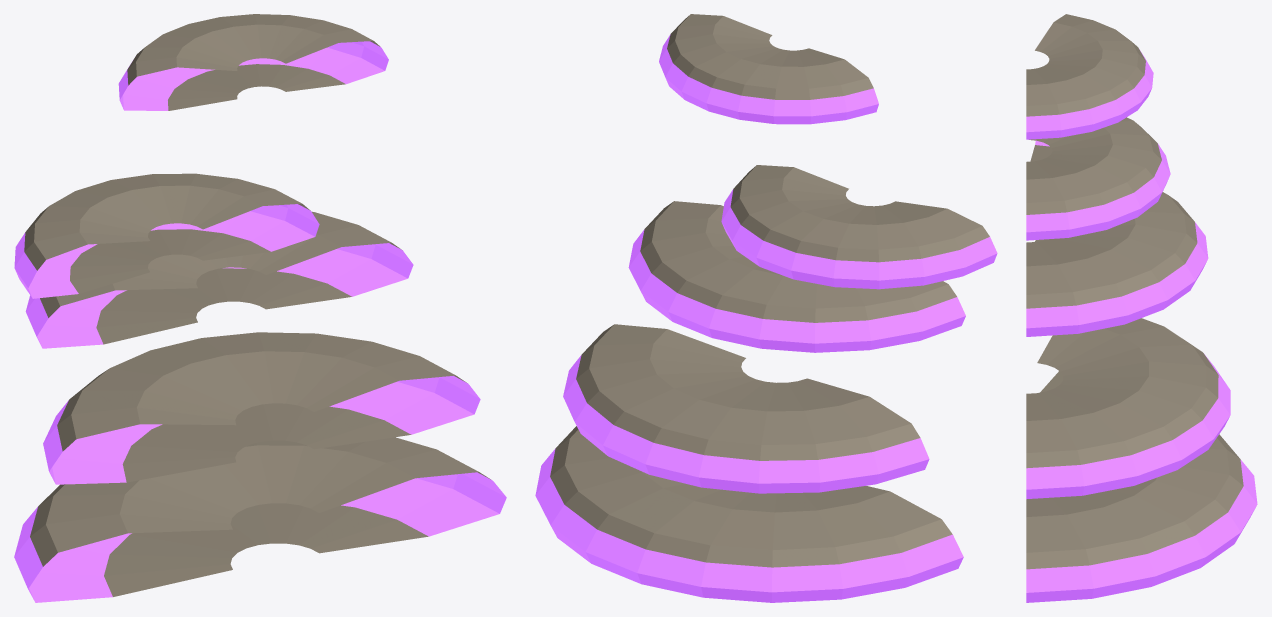
The model's file is shelf_v02.glb.
3 renders of one model, left to right at view 1: azimuth 30°, elevation 25°; view 2: azimuth 150°, elevation 25°; view 3: azimuth 270°, elevation 25°, orthographic. The views are drawn at different scales.
Visible parts, largest first — view 1: mushroom_shelf_flesh_nocol, mushroom_shelf_glow_nocol; view 2: mushroom_shelf_flesh_nocol, mushroom_shelf_glow_nocol; view 3: mushroom_shelf_flesh_nocol, mushroom_shelf_glow_nocol.
Boxes of the visible parts, x1,y1,x2,y2 form: mushroom_shelf_flesh_nocol: (24, 14, 490, 596); mushroom_shelf_glow_nocol: (14, 41, 506, 602); mushroom_shelf_flesh_nocol: (550, 14, 989, 567); mushroom_shelf_glow_nocol: (535, 34, 997, 602); mushroom_shelf_flesh_nocol: (1026, 14, 1243, 569); mushroom_shelf_glow_nocol: (1026, 49, 1257, 602).
Bounding box in the file's own units: 1.28 × 1.34 × 0.6181.
